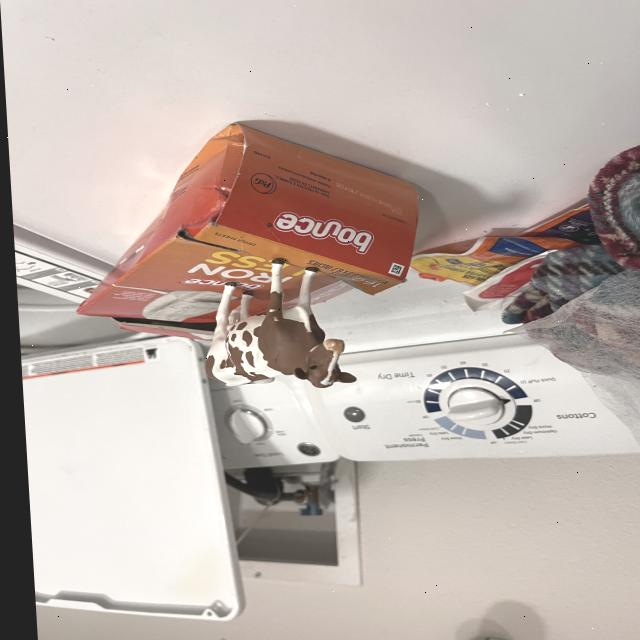cow: (200, 257, 354, 389)
